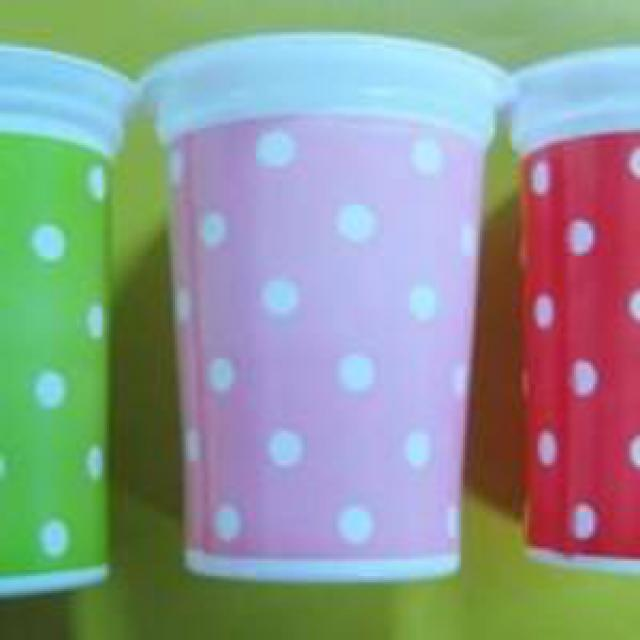plastic cup: (134, 24, 518, 593), (2, 36, 135, 598), (503, 41, 640, 580)
